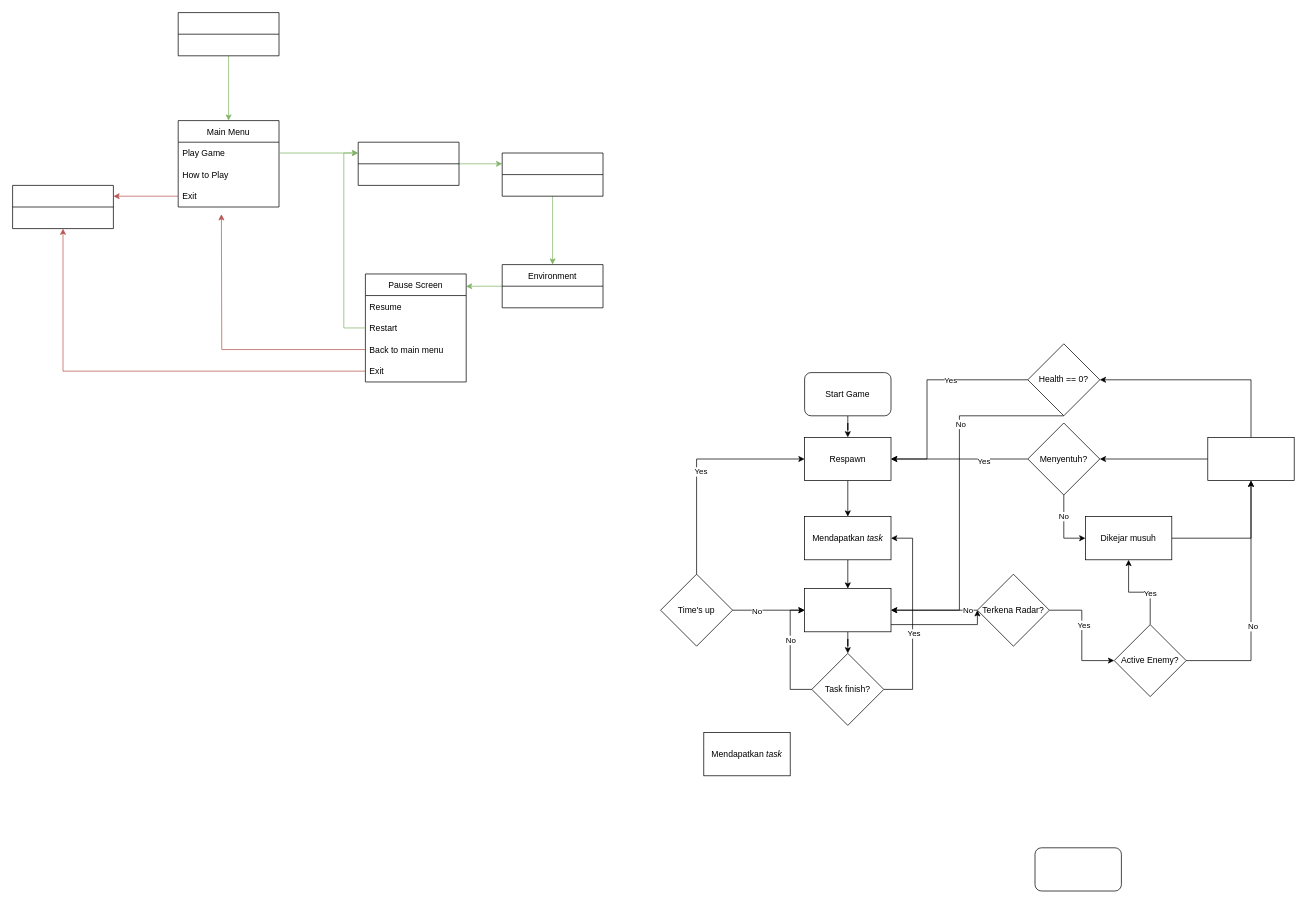
Some shapes in this 1307 by 904 pixel diagram are drawn without their labels. The centre of each missing label's shape, as x and y in pixels:
Exit game: the point at 62,207
Finish: the point at 1077,869
Game Setup: the point at 408,163
Health berkurang: the point at 1250,459
Loading: the point at 552,174
Logo Screen: the point at 228,34
Mengerjakan Task: the point at 847,610
